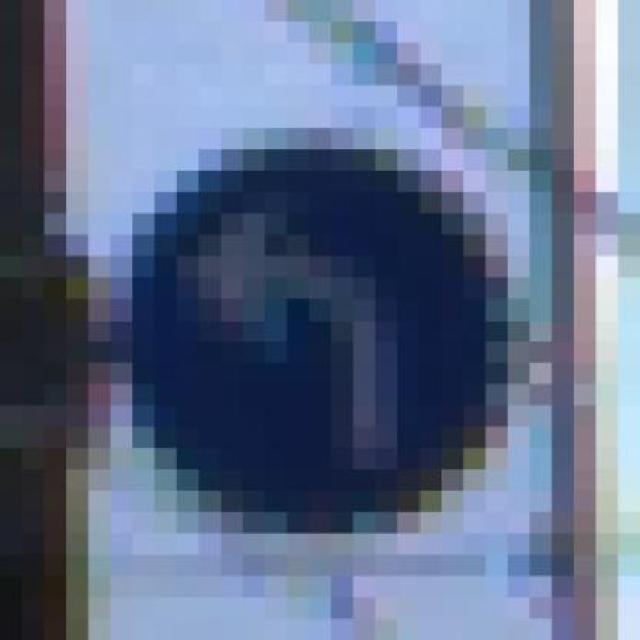Turn left ahead: (110, 106, 552, 534)
